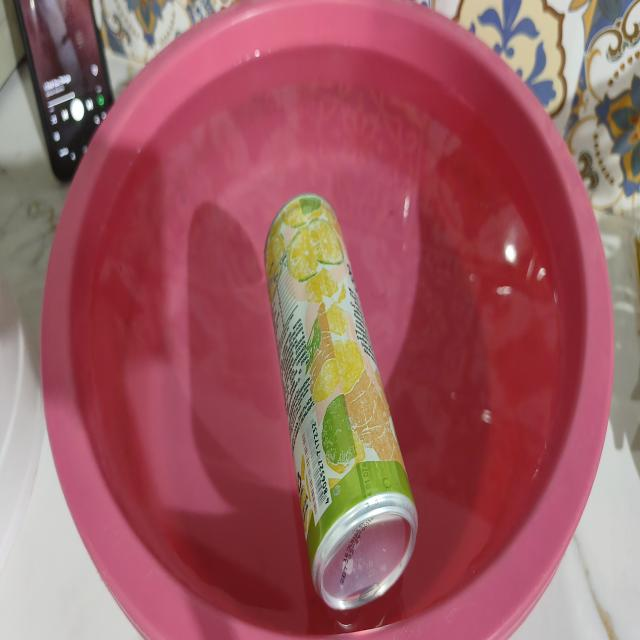Aluminum Can: (236, 161, 447, 640)
